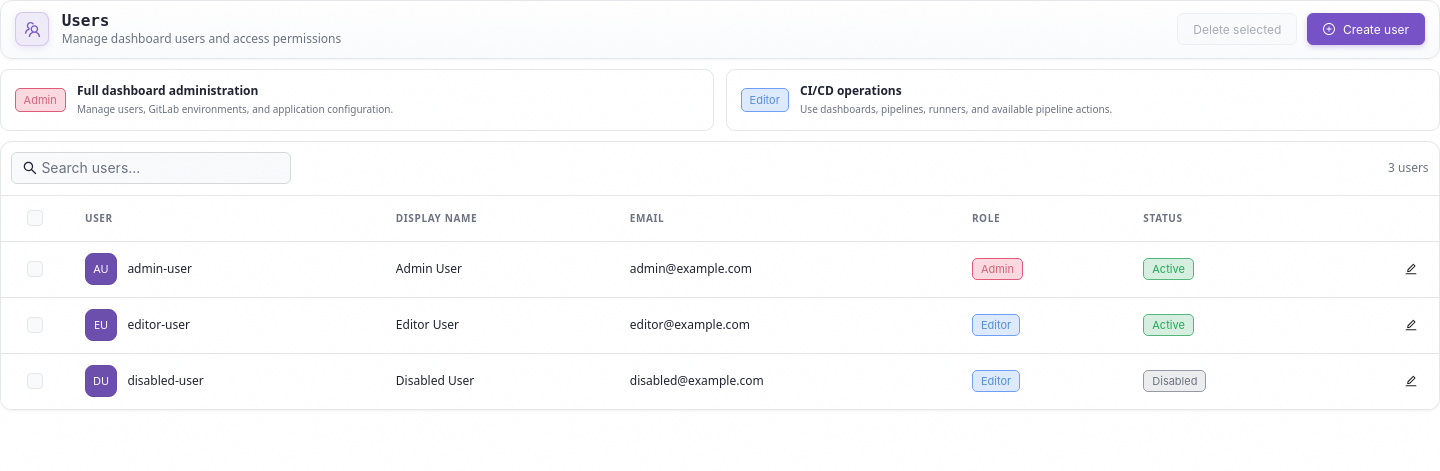
Test: UsersPage › search control › clearing the field restores the full users table
The image size is (1440, 471).
Expected: the text "admin-user" is shown, [127,261,192,277]
Type "admin" into the dropdown with placeholder "Search users..." at (152, 168), box [41,157,263,179]
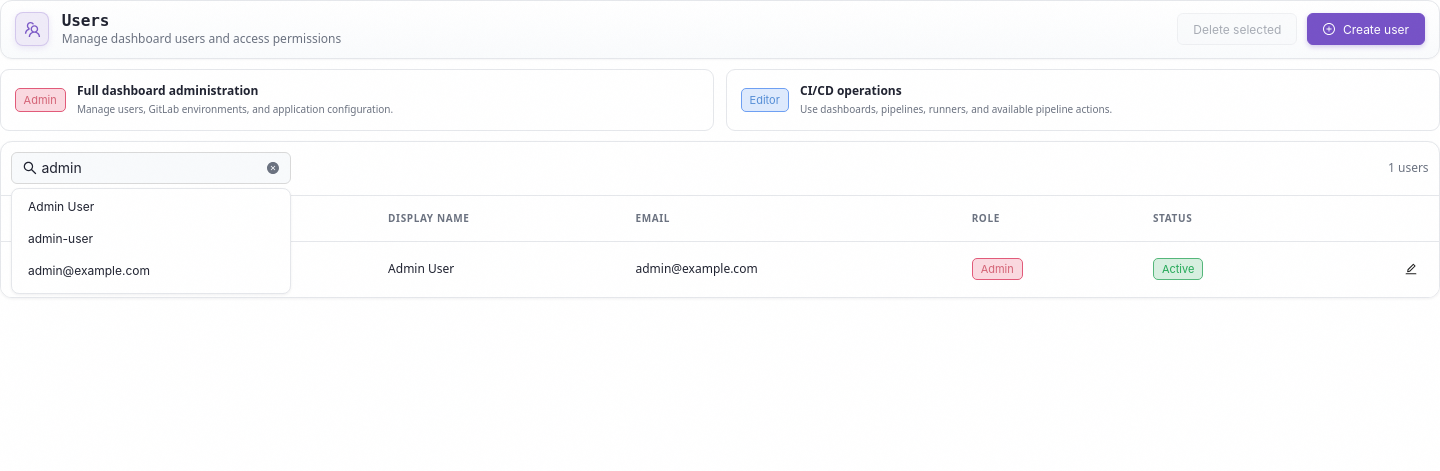
Clear the dropdown with placeholder "Search users..." at (152, 168), box [41,157,263,179]
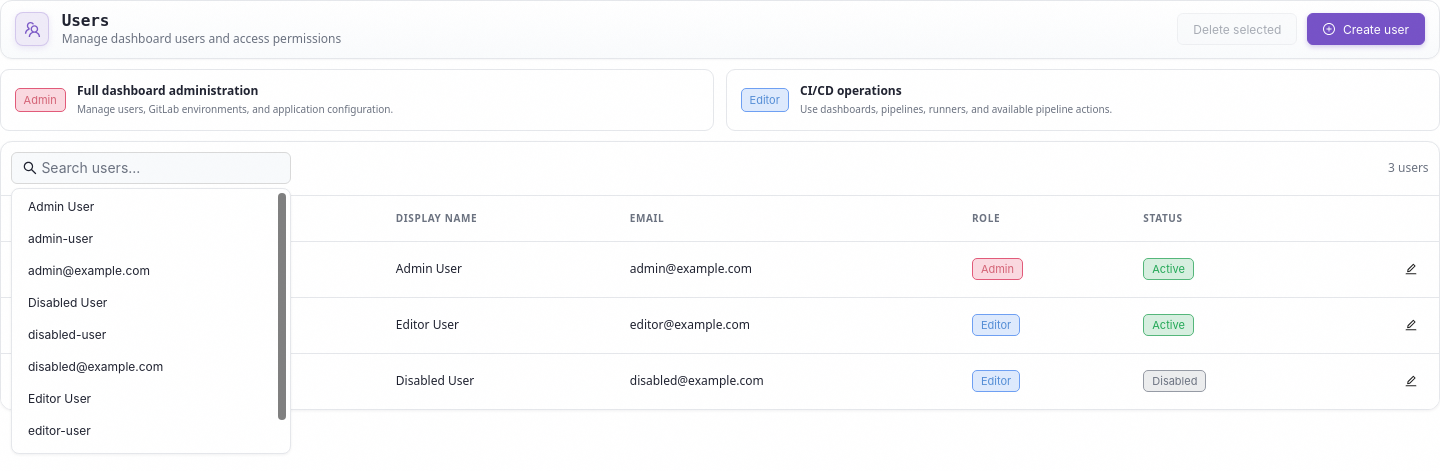
Result: the text "3 users" is shown at [1388,160,1429,176]
